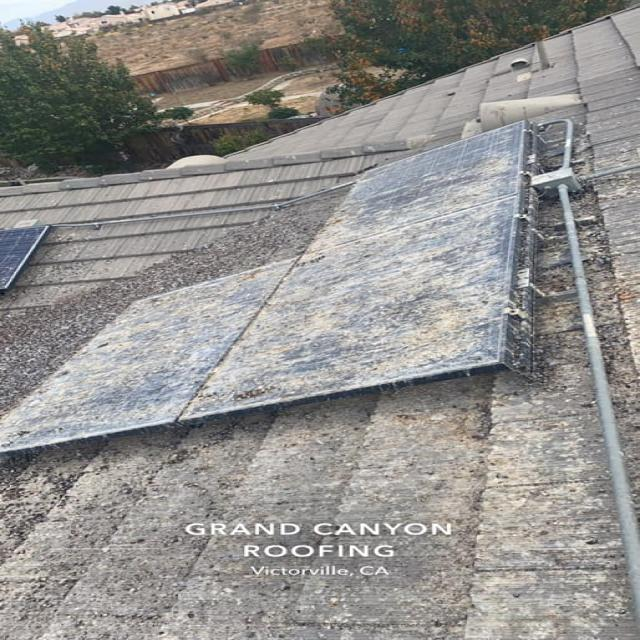dust-solar-panel: (0, 121, 526, 454)
